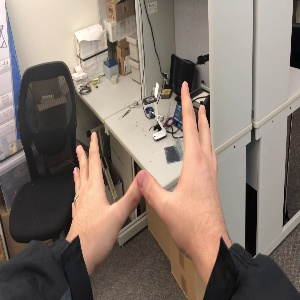hand: (139, 80, 228, 247), (73, 132, 138, 244)
